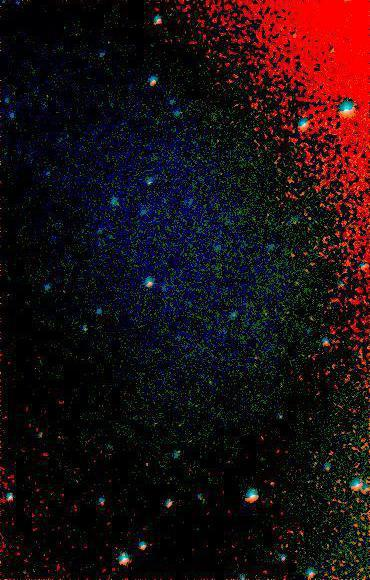star: (255, 470, 285, 500)
